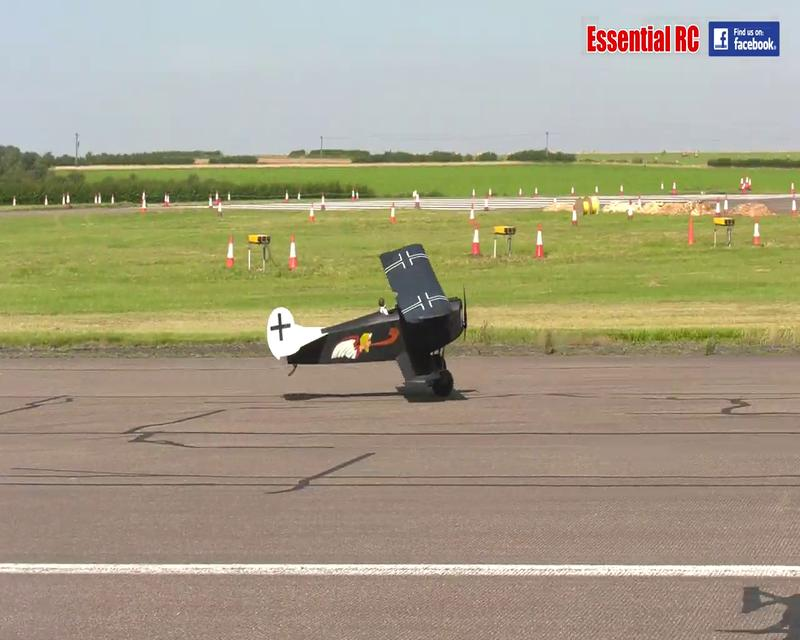UAV: (266, 243, 468, 402), (585, 23, 700, 53)
